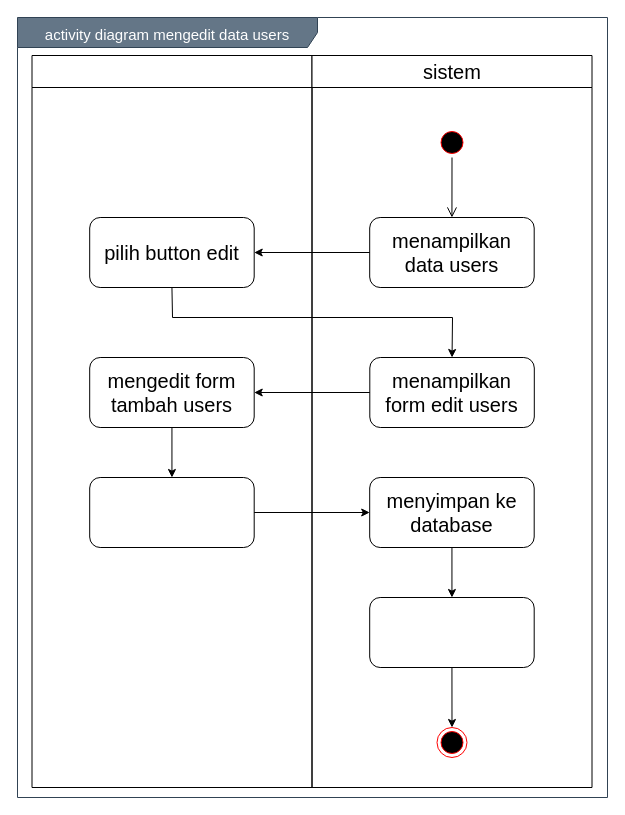
This 625x815 diagram has some shape labels left out. Each missing label, with the box of its shape:
admin: (31, 54, 312, 788)
klik submit: (89, 476, 254, 548)
menampilkan tabel data users: (369, 596, 534, 668)
